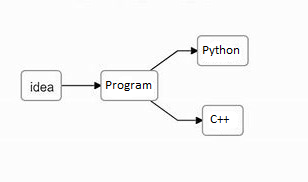arrow: (148, 99, 203, 125), (150, 45, 197, 71), (61, 81, 102, 91)
process: (98, 69, 160, 102), (196, 34, 251, 68), (201, 103, 245, 138), (19, 69, 63, 102)
text: (105, 80, 152, 92), (201, 44, 240, 56), (29, 80, 55, 92), (209, 114, 230, 124)
